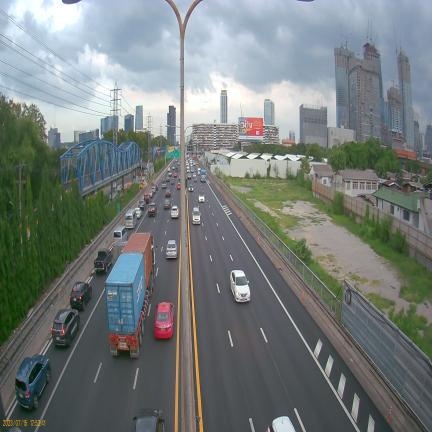car: (15, 355, 51, 409), (51, 309, 80, 346), (230, 270, 250, 302), (70, 282, 92, 310), (166, 240, 178, 258), (148, 202, 158, 217), (192, 207, 200, 224), (171, 205, 179, 218), (164, 199, 171, 209), (138, 199, 145, 209), (143, 193, 149, 203), (198, 194, 205, 202), (188, 184, 194, 192), (165, 189, 171, 197), (166, 176, 170, 182), (162, 182, 166, 188), (177, 183, 181, 189), (170, 179, 174, 184)
pickup: (94, 249, 113, 273)
taxi: (155, 302, 174, 338)
truck: (105, 233, 155, 358), (121, 232, 155, 297), (200, 169, 206, 182)
van: (113, 226, 128, 242), (125, 209, 137, 228)
